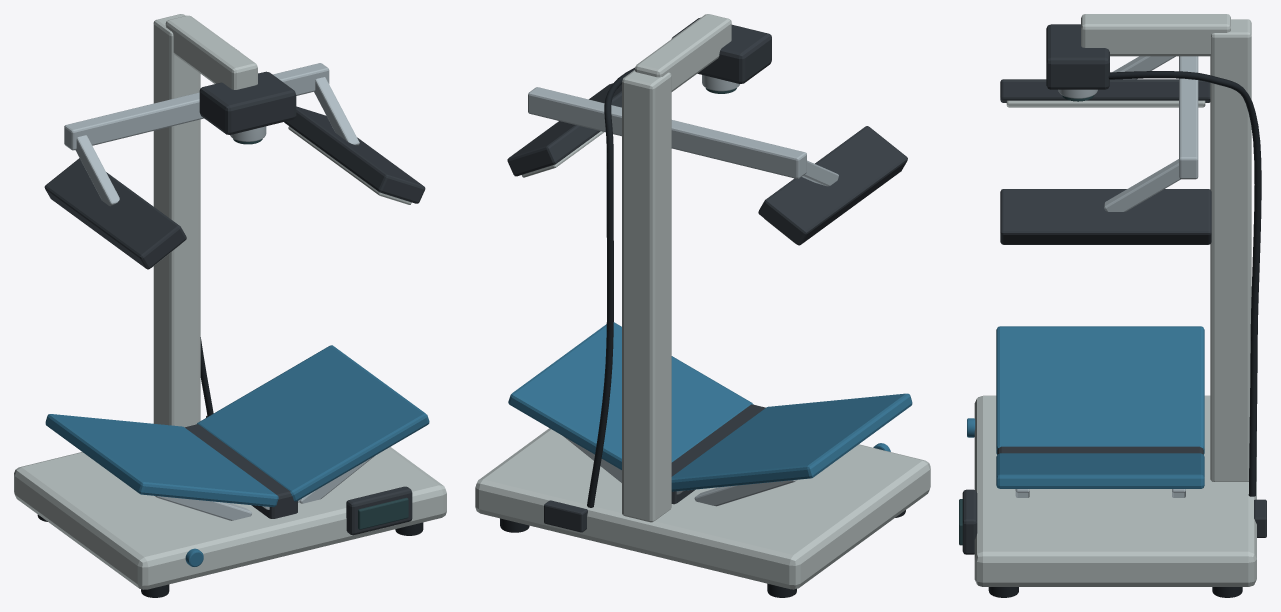
File: city-overhead-book-scanner.glb
3 renders of one model, left to right at view 1: azimuth 30°, elevation 25°; view 2: azimuth 150°, elevation 25°; view 3: azimuth 270°, elevation 25°, orthographic. The views are drawn at different scales.
Parts seen in each view (by area): view 1: Assembly | Powder-coated light service metal, Assembly | Deep blue service paint, Assembly | Dark mechanism trim, Assembly | Brushed exposed steel, Assembly | Opaque inactive optical surface, Assembly | Rubber feet and hoses; view 2: Assembly | Powder-coated light service metal, Assembly | Deep blue service paint, Assembly | Dark mechanism trim, Assembly | Brushed exposed steel, Assembly | Rubber feet and hoses; view 3: Assembly | Powder-coated light service metal, Assembly | Deep blue service paint, Assembly | Dark mechanism trim, Assembly | Brushed exposed steel, Assembly | Rubber feet and hoses.
Part boxes in pixels (<box>): Assembly | Powder-coated light service metal: <box>14,14,446,589</box>; Assembly | Deep blue service paint: <box>45,345,429,566</box>; Assembly | Dark mechanism trim: <box>44,71,425,535</box>; Assembly | Brushed exposed steel: <box>64,63,374,520</box>; Assembly | Opaque inactive optical surface: <box>233,138,408,529</box>; Assembly | Rubber feet and hoses: <box>37,337,423,597</box>; Assembly | Powder-coated light service metal: <box>475,14,930,589</box>; Assembly | Deep blue service paint: <box>508,322,912,491</box>; Assembly | Dark mechanism trim: <box>507,17,907,532</box>; Assembly | Brushed exposed steel: <box>528,75,838,506</box>; Assembly | Rubber feet and hoses: <box>500,67,905,597</box>; Assembly | Powder-coated light service metal: <box>974,14,1256,586</box>; Assembly | Deep blue service paint: <box>967,326,1204,488</box>; Assembly | Dark mechanism trim: <box>962,24,1266,554</box>; Assembly | Brushed exposed steel: <box>1015,56,1198,497</box>; Assembly | Rubber feet and hoses: <box>988,71,1261,597</box>.
Size of the model in its own units: 0.634 by 0.919 by 0.507.
